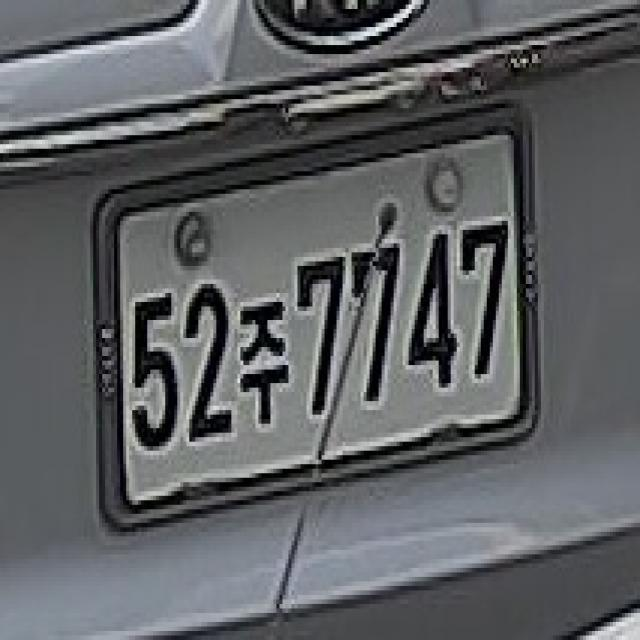2: (184, 278, 234, 451)
4: (404, 224, 461, 392)
5: (119, 282, 182, 458)
7: (457, 209, 514, 394), (292, 243, 348, 428), (346, 240, 401, 414)
ju: (233, 299, 291, 437)
license_plate: (82, 79, 560, 562)
